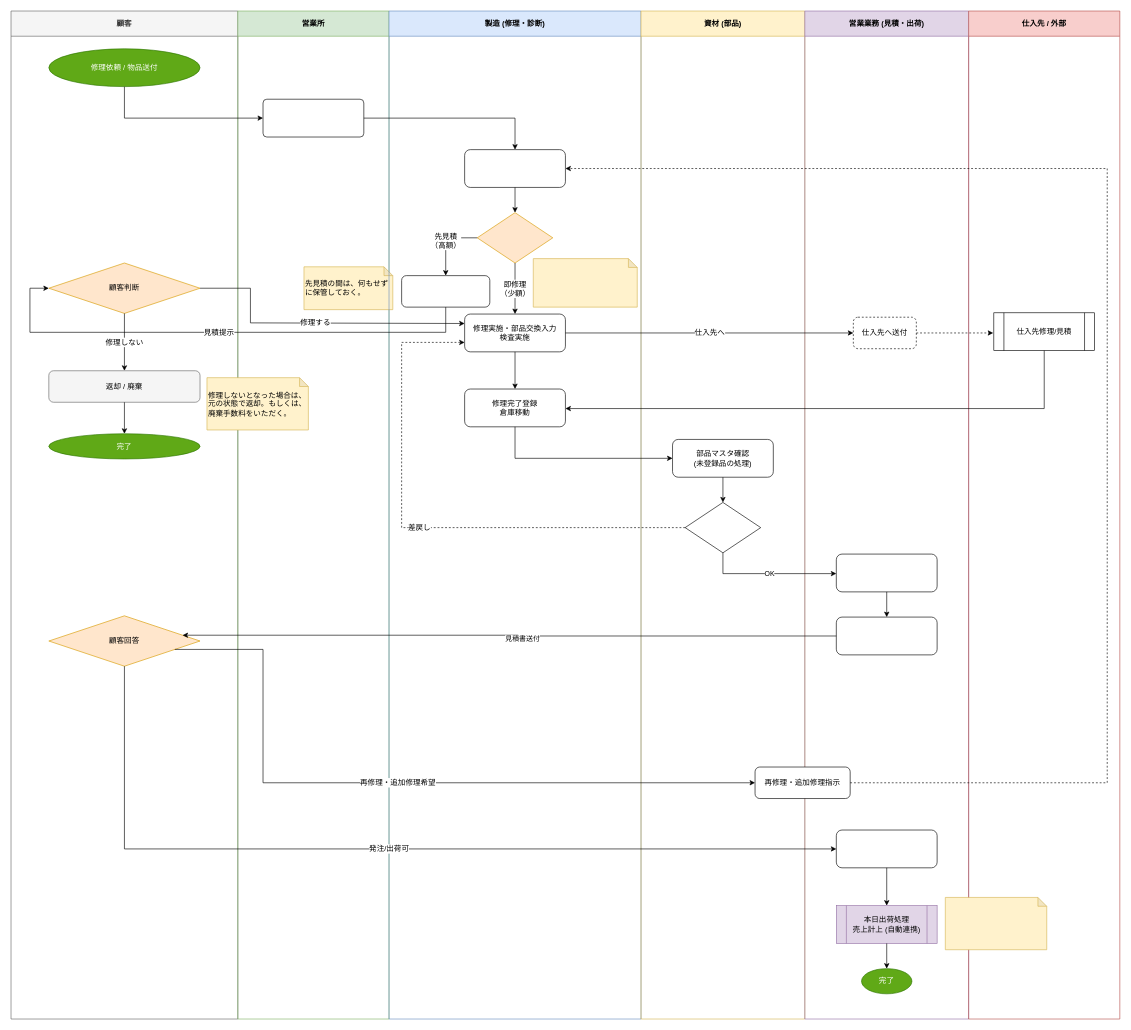
Some shapes in this 1131 by 1030 pixel diagram are drawn without their labels. Here are the shapes that lost their labels. From the top down, the centre of each, then its label:
At (313,118): "受注入力 (区分：修理)".
At (514,168): "現品受入 ステータス：修理中".
At (515,237): "処置判断".
At (445,291): "診断のみ実施".
At (585,282): "高額でない場合は、先に修理をしてしまってからかかった分をお見積りとして提出する。".
At (722,527): "内容確定".
At (886,572): "見積書作成・発行".
At (886,635): "見積提示・回答待ち (見積中)".
At (886,848): "出荷指示 (未出荷データ蓄積)".
At (996,923): "修理完了したら、通常の流れで「本日出荷処理」を行う。".
